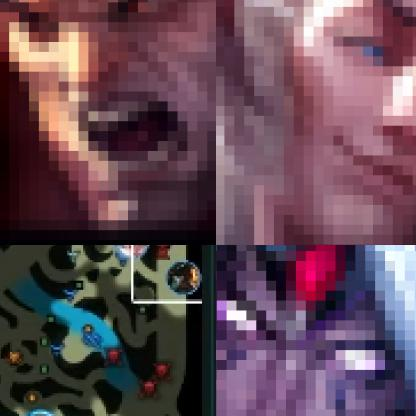Darius: (0, 0, 215, 244)
Gangplank: (165, 262, 203, 296)
Rakan: (216, 0, 415, 244)
Sona: (114, 245, 152, 261)
Varus: (216, 245, 415, 415)
